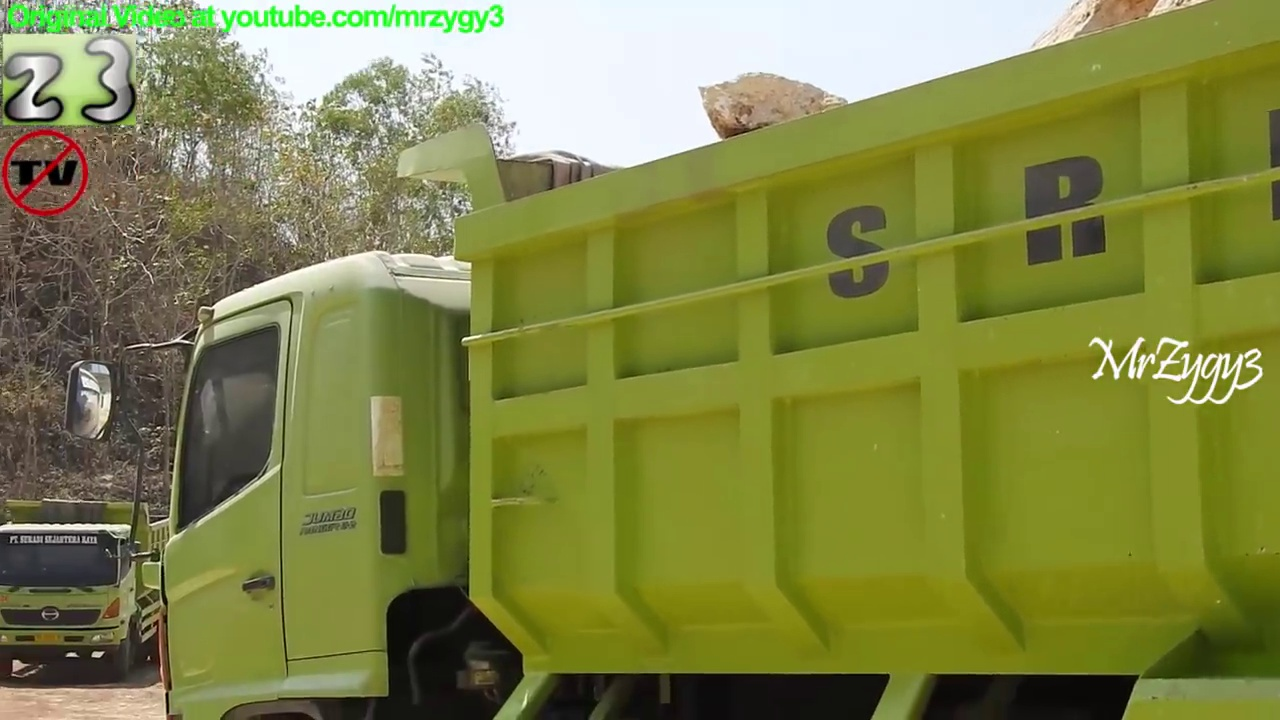truck: (58, 1, 1280, 720), (1, 492, 233, 686)
